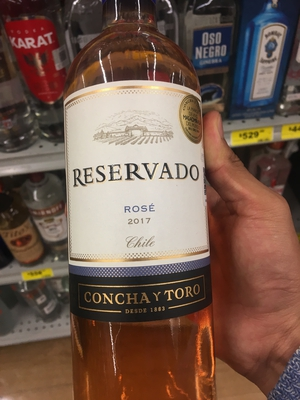reservado rose: (67, 16, 210, 400)
